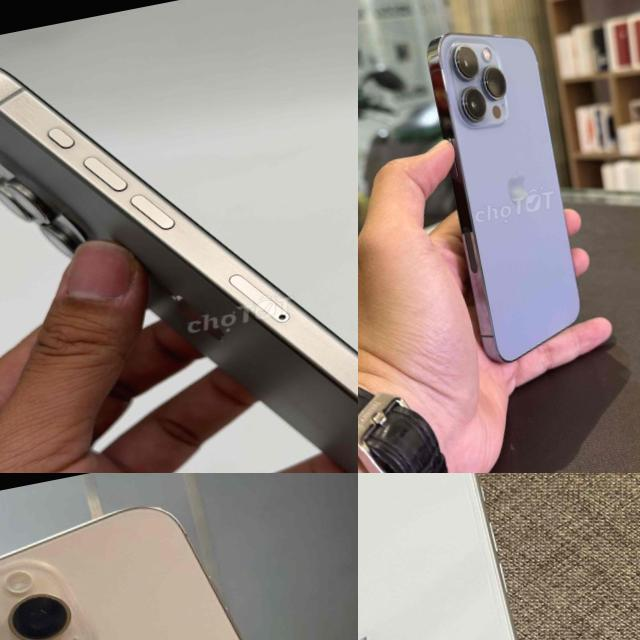gen_12_13: (416, 12, 598, 364)
gen_15: (0, 0, 358, 473)
gen_16: (0, 507, 240, 640)
gen_7_8: (358, 473, 598, 640)
